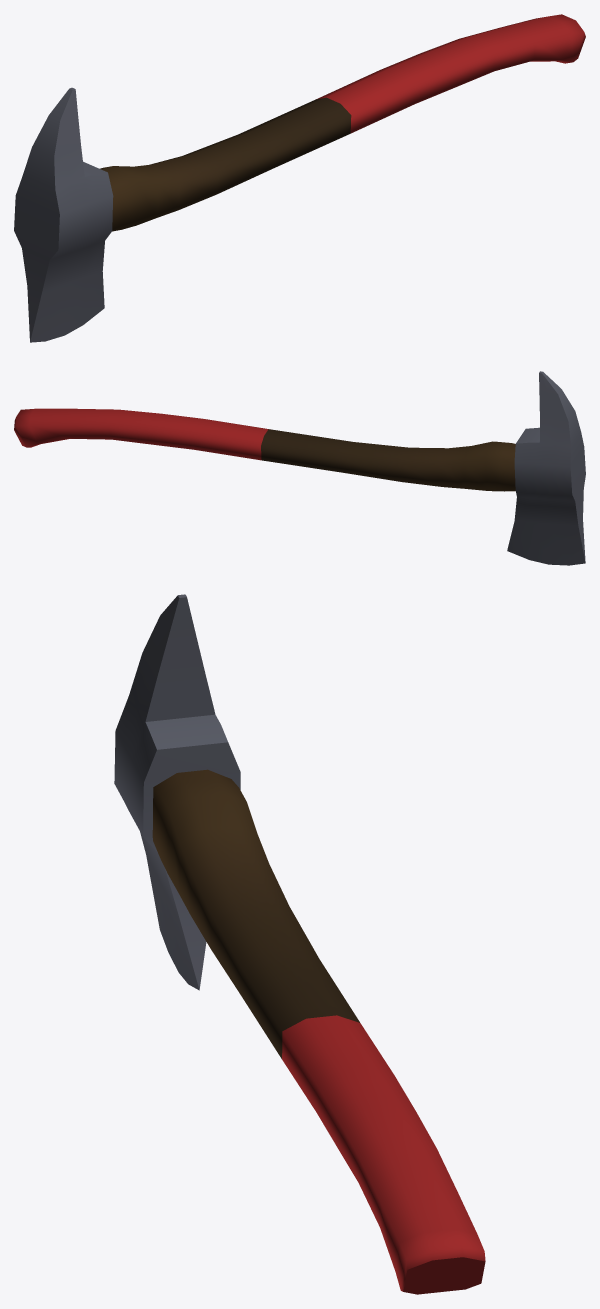
File: Brunch.fbx
3 renders of one model, top to bottom at view 1: azimuth 30°, elevation 25°; view 2: azimuth 150°, elevation 25°; view 3: azimuth 270°, elevation 25°, orthographic. The views are drawn at different scales.
Parts seen in each view (by area): view 1: Box003; view 2: Box003; view 3: Box003.
Part boxes in pixels (x1=…): Box003: x1=14, y1=14, x2=585, y2=342; Box003: x1=14, y1=371, x2=585, y2=565; Box003: x1=114, y1=594, x2=485, y2=1294.
Bounding box in the file's own units: 87.89 × 32.24 × 28.32.
